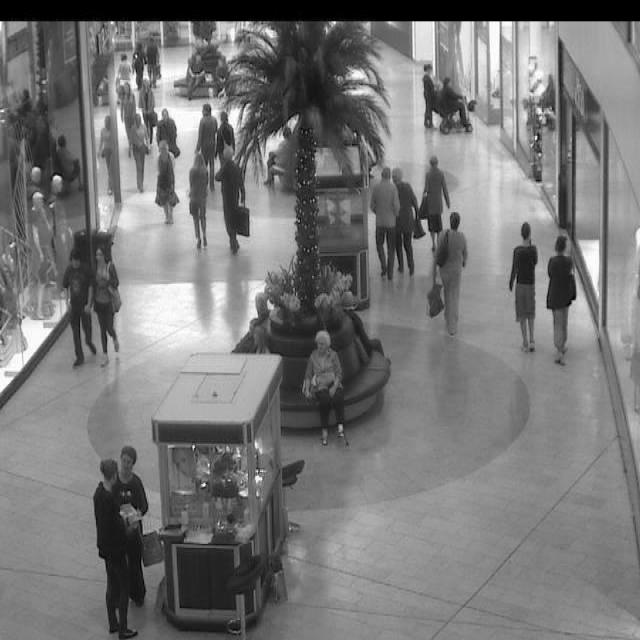person: (95, 448, 151, 640), (302, 331, 344, 446), (508, 223, 542, 354), (434, 213, 468, 336), (60, 252, 97, 365), (544, 250, 578, 362), (211, 147, 247, 250), (90, 251, 123, 362), (371, 170, 401, 278), (152, 107, 180, 220), (393, 170, 422, 275), (419, 156, 452, 240), (438, 71, 476, 140), (186, 148, 211, 251), (194, 103, 218, 173), (120, 442, 150, 489), (128, 117, 144, 199), (252, 283, 282, 325), (252, 318, 278, 358), (419, 66, 436, 126), (128, 34, 146, 90), (187, 50, 207, 98), (112, 51, 134, 93), (146, 37, 162, 88)
